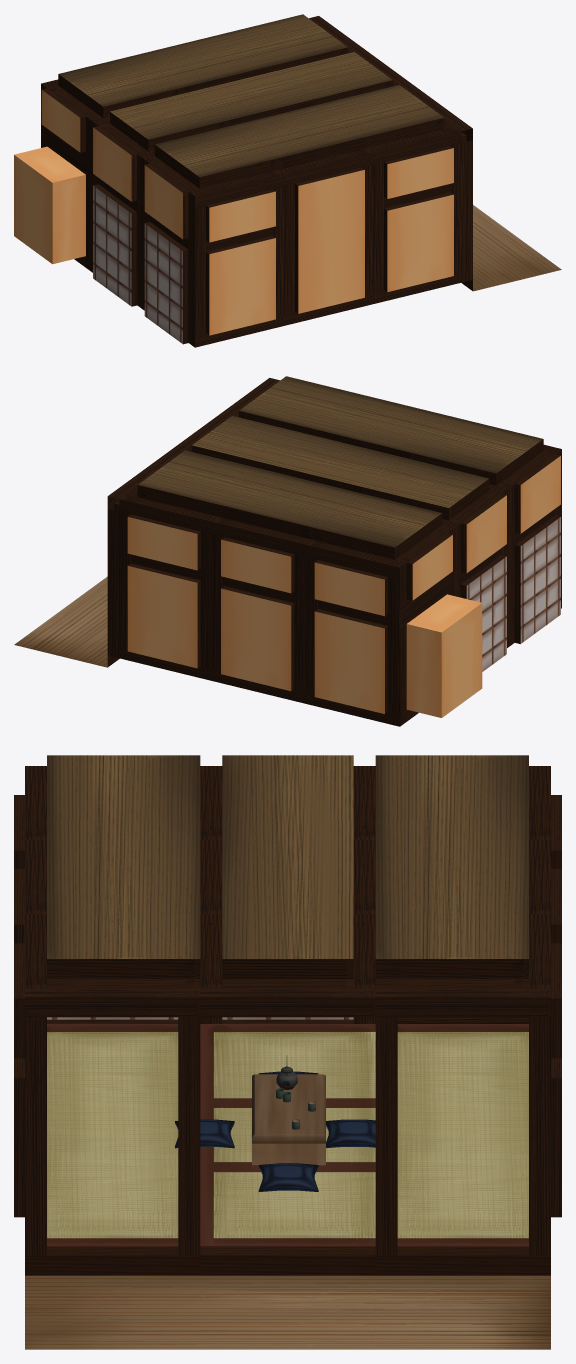
The model's file is room.glb.
3 views of the same model, one above another, from view 1: azimuth 30°, elevation 25°; view 2: azimuth 150°, elevation 25°; view 3: azimuth 270°, elevation 25° (orthographic). The views are drawn at different scales.
Visible parts, largest first — view 1: Object_4, Object_3; view 2: Object_4, Object_3; view 3: Object_3, Object_4, Object_9, Object_8.
Part boxes in pixels (x1,y1,x2,y2): Object_4: [14, 16, 472, 347]; Object_3: [41, 14, 561, 291]; Object_4: [107, 378, 561, 726]; Object_3: [14, 376, 561, 667]; Object_3: [25, 755, 550, 1349]; Object_4: [14, 795, 561, 1255]; Object_9: [252, 1074, 325, 1165]; Object_8: [175, 1071, 375, 1191].
Bounding box in the file's own units: 1097 × 457 × 762.
8 materials, 8 textured.
